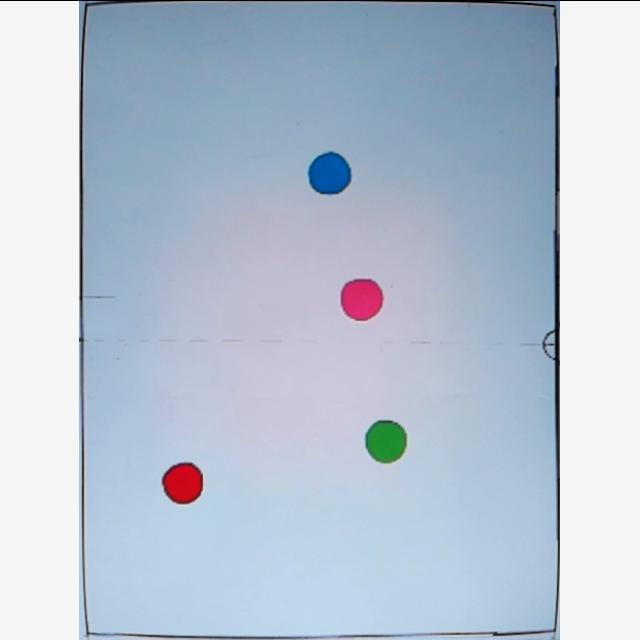blueCircle: (305, 148, 355, 198)
greenCircle: (365, 420, 409, 464)
pinkCircle: (338, 276, 388, 322)
redCircle: (161, 461, 207, 505)
